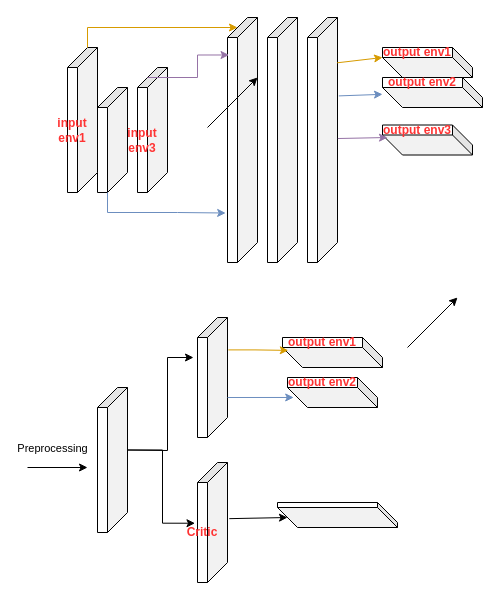
The diagram is 500 pixels wide and 600 high, and some of its shapes have lost their labels. The centre of each missing label's shape, as x and y in pixels:
Actor: the point at 212,377
input env2: the point at 112,139
value: the point at 337,515
